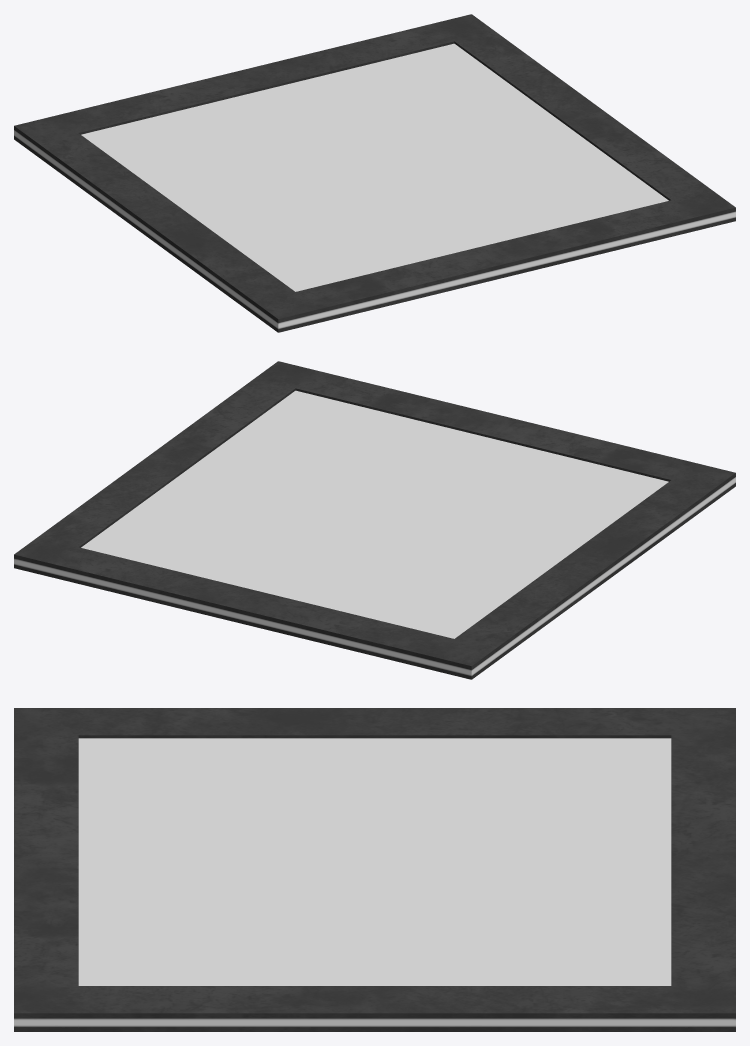
Rendered from Elevator.fbx.
3 views of the same model, one above another, from view 1: azimuth 30°, elevation 25°; view 2: azimuth 150°, elevation 25°; view 3: azimuth 270°, elevation 25° (orthographic). The views are drawn at different scales.
Parts seen in each view (by area): view 1: ElevatorPlatformGrate, ElevatorPlatformFrame; view 2: ElevatorPlatformGrate, ElevatorPlatformFrame; view 3: ElevatorPlatformGrate, ElevatorPlatformFrame.
Part boxes in pixels (x1=…): ElevatorPlatformGrate: x1=81, y1=43, x2=668, y2=291; ElevatorPlatformFrame: x1=14, y1=14, x2=735, y2=332; ElevatorPlatformGrate: x1=81, y1=390, x2=668, y2=638; ElevatorPlatformFrame: x1=14, y1=361, x2=735, y2=679; ElevatorPlatformGrate: x1=78, y1=738, x2=671, y2=985; ElevatorPlatformFrame: x1=14, y1=708, x2=735, y2=1031.
Size of the model in its own units: 787 by 22.39 by 787.
